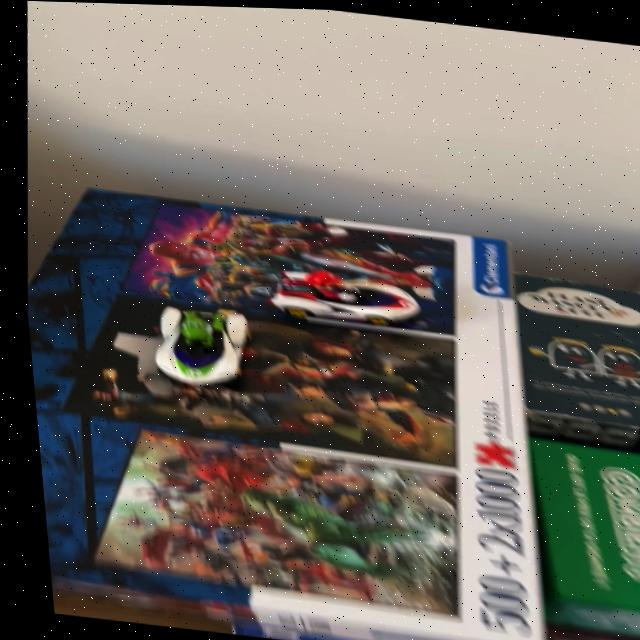mario: (254, 260, 436, 340)
yoshi: (136, 297, 257, 400)
